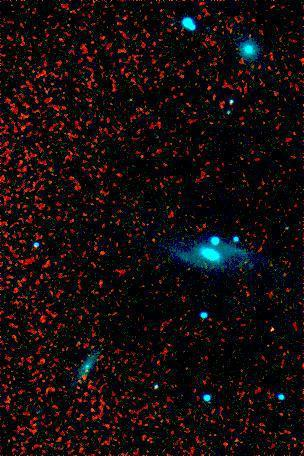star: (228, 245, 258, 275)
